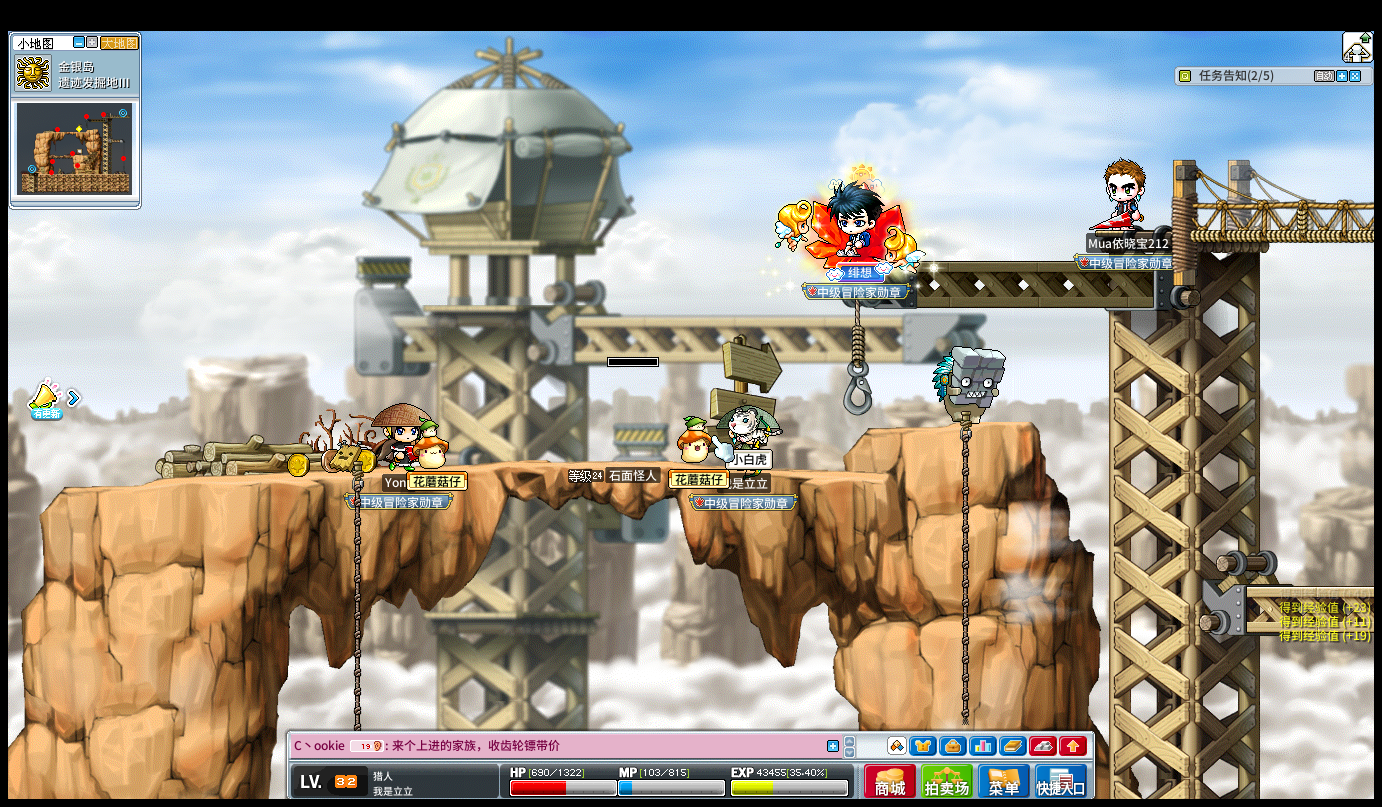floor: (69, 455, 939, 481), (1179, 193, 1375, 210), (868, 417, 1042, 435), (867, 421, 1044, 437), (1244, 582, 1378, 598)
monster: (932, 346, 1006, 425)
rope: (957, 410, 972, 712), (349, 453, 363, 774), (351, 459, 363, 713)
